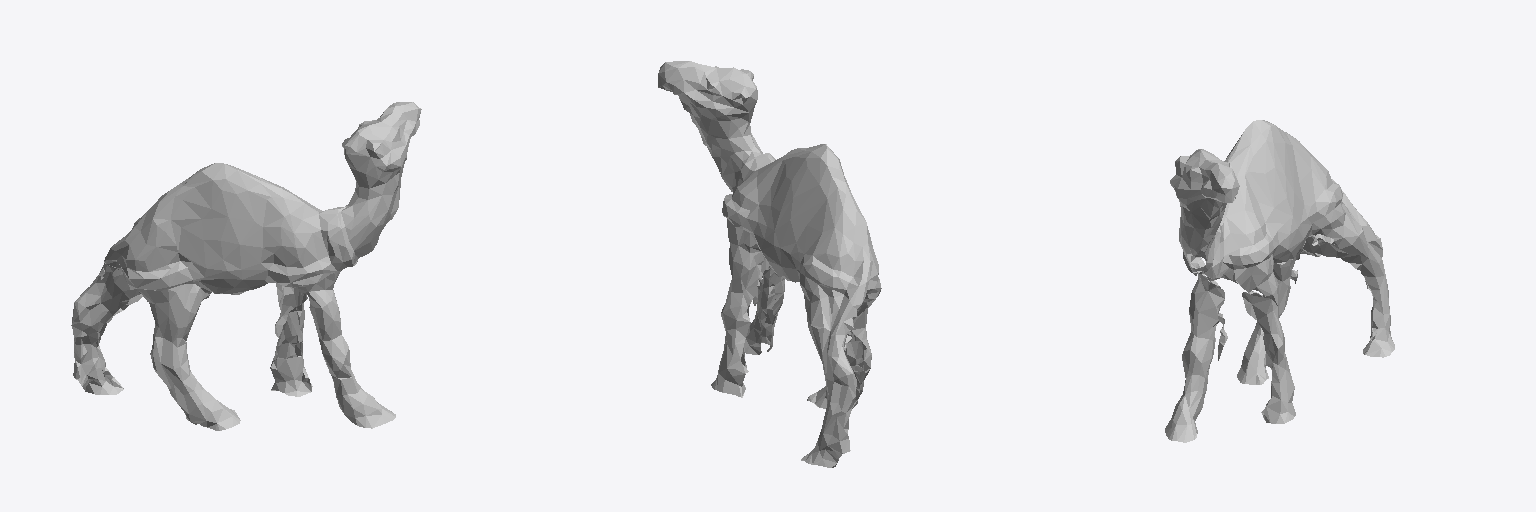
File: camellBaixRes.obj
3 views of the same model, side by side, from view 1: azimuth 30°, elevation 25°; view 2: azimuth 150°, elevation 25°; view 3: azimuth 270°, elevation 25° (orthographic).
Visible parts, largest first — view 1: camell; view 2: camell; view 3: camell.
Part boxes in pixels (x1,y1,x2,y2): camell: (71, 102, 421, 430); camell: (658, 61, 881, 467); camell: (1165, 120, 1394, 442).
Size of the model in its own units: 66.7 by 68.14 by 48.81.